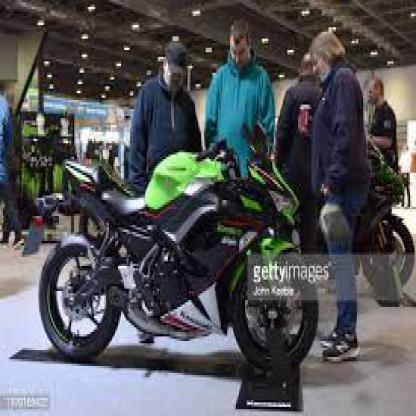Motorcycle: (24, 133, 330, 366)
